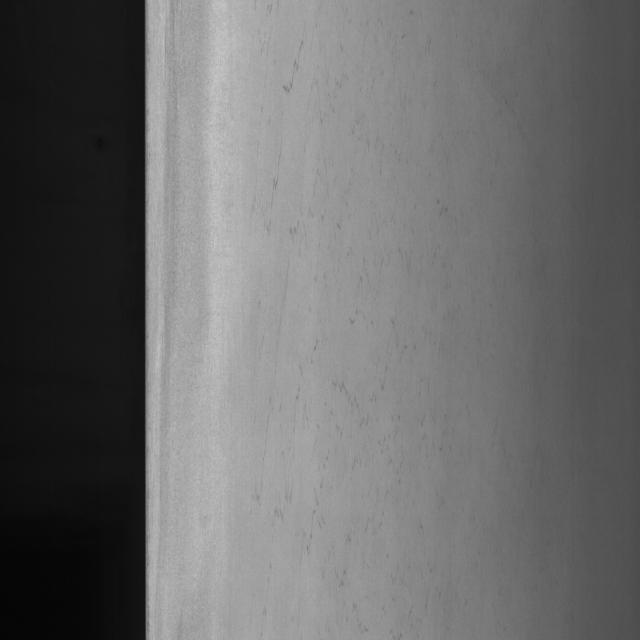inclusion: (259, 9, 397, 500)
